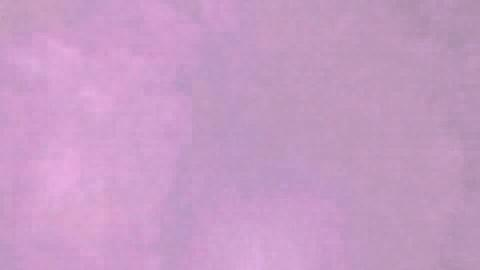tomato: (152, 126, 411, 268), (2, 116, 152, 268)
